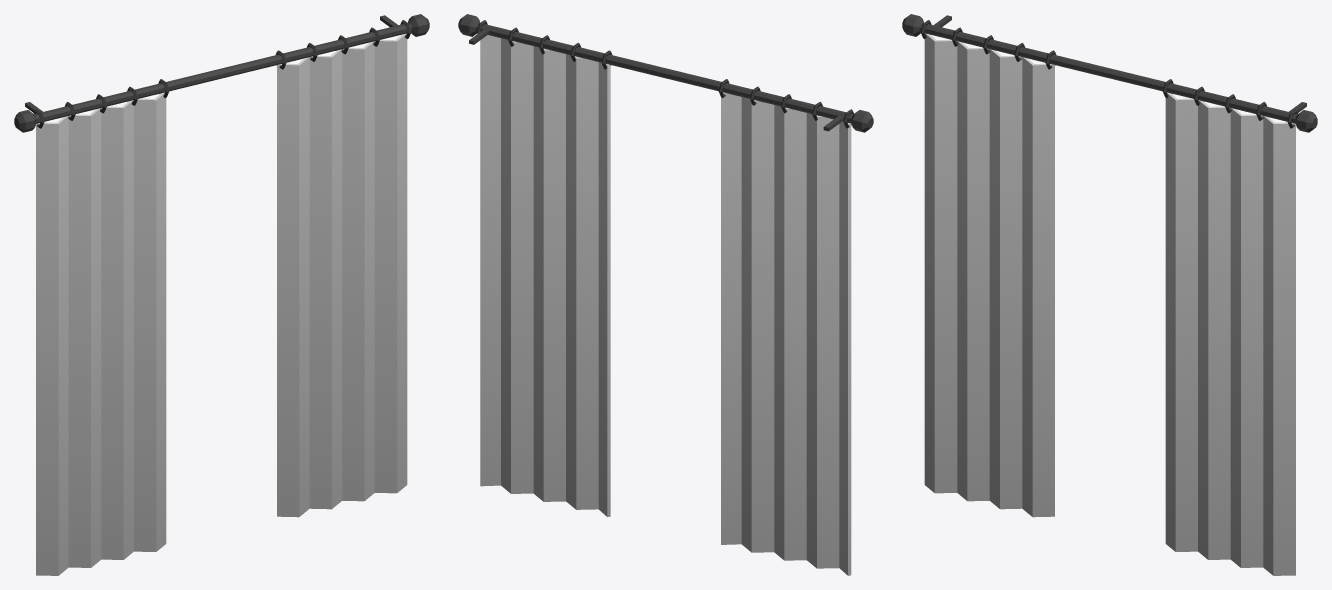
Rendered from Curtains1_C3.fbx.
3 renders of one model, left to right at view 1: azimuth 30°, elevation 25°; view 2: azimuth 150°, elevation 25°; view 3: azimuth 330°, elevation 25°, orthographic.
Parts seen in each view (by area): view 1: Curtains1_C3; view 2: Curtains1_C3; view 3: Curtains1_C3.
Part boxes in pixels (x1,y1,x2,y2): Curtains1_C3: [14, 14, 429, 575]; Curtains1_C3: [458, 14, 873, 575]; Curtains1_C3: [902, 14, 1317, 575].
Bounding box in the file's own units: 138 × 150 × 13.37.
